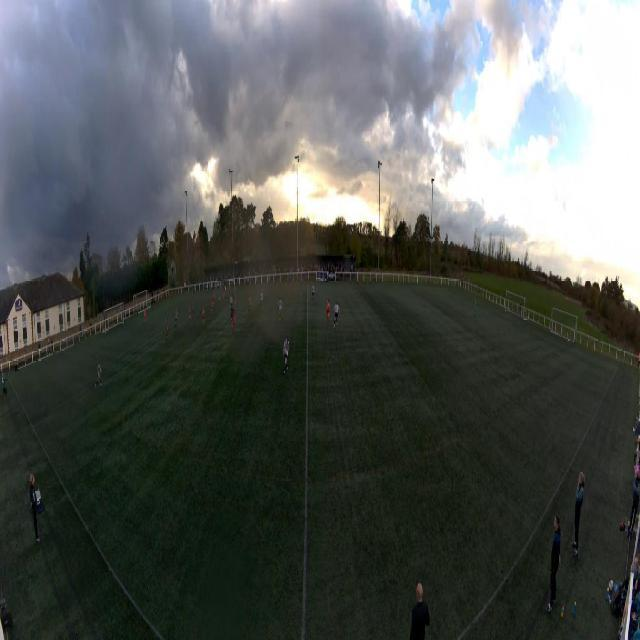ball: (219, 298, 220, 302)
player: (283, 333, 290, 374), (95, 361, 102, 388), (333, 301, 339, 329), (278, 298, 283, 322), (231, 310, 236, 334), (326, 298, 330, 325), (311, 283, 315, 305), (230, 304, 234, 326), (248, 296, 252, 314), (191, 299, 195, 316), (202, 306, 205, 328), (166, 318, 169, 340), (229, 294, 233, 310), (188, 304, 191, 324), (175, 309, 178, 329), (260, 290, 263, 309), (234, 296, 237, 313), (211, 299, 214, 315), (474, 299, 476, 318), (234, 285, 237, 296), (214, 292, 216, 308), (144, 309, 146, 324), (223, 290, 225, 302)
